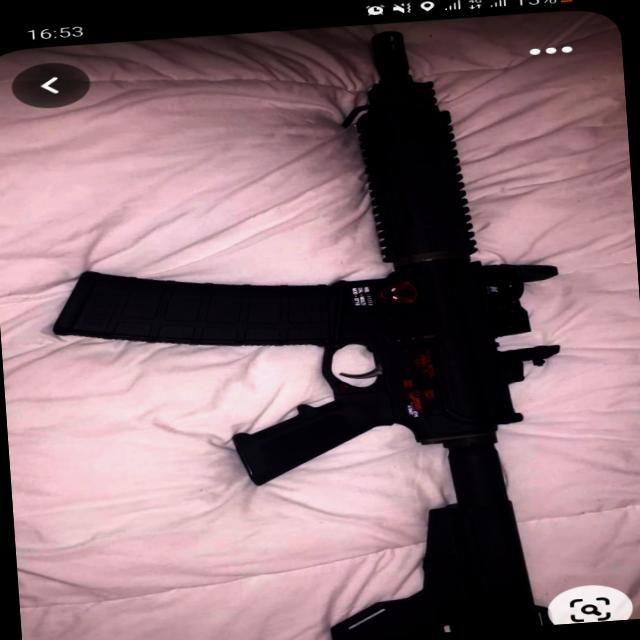m16: (134, 82, 611, 521)
